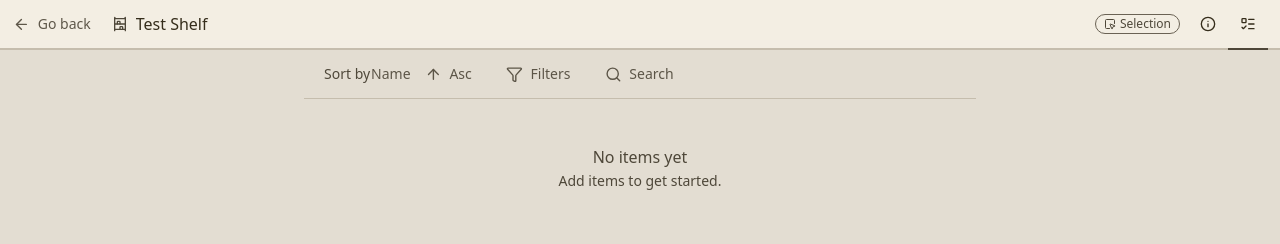
Shelf Detail - Items Tab › user can create an item by typing a name and pressing Enter
// user opens the search panel
Step 1. Click the button with aria-label "toggle search" → (639, 74), box left=592, top=58, right=687, bottom=90
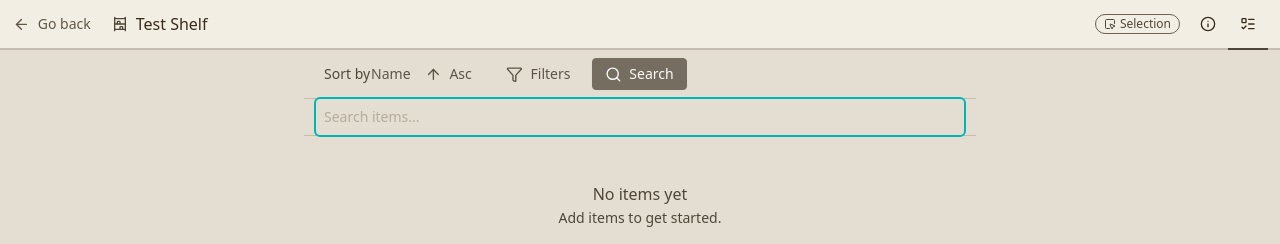
Expected: the field with placeholder "Search items..." is shown
// user types a new item name and presses Enter
Step 2. Type "Butter" into the field with placeholder "Search items..." → (640, 117), box left=316, top=99, right=964, bottom=135
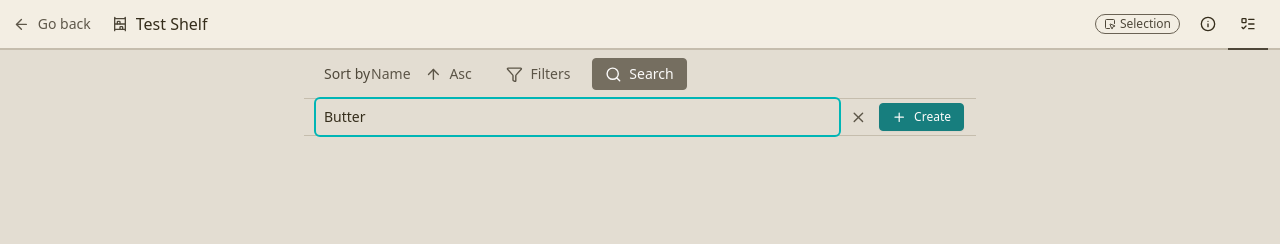
Step 3. Press Enter
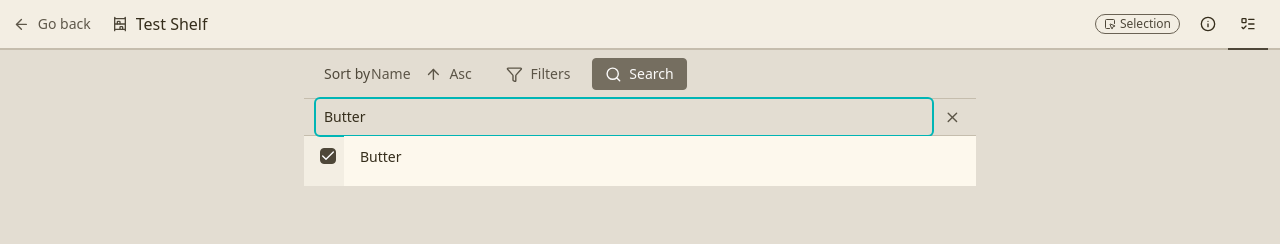
Expected: the checkbox named "Remove Butter" is checked, left=320, top=148, right=336, bottom=164
